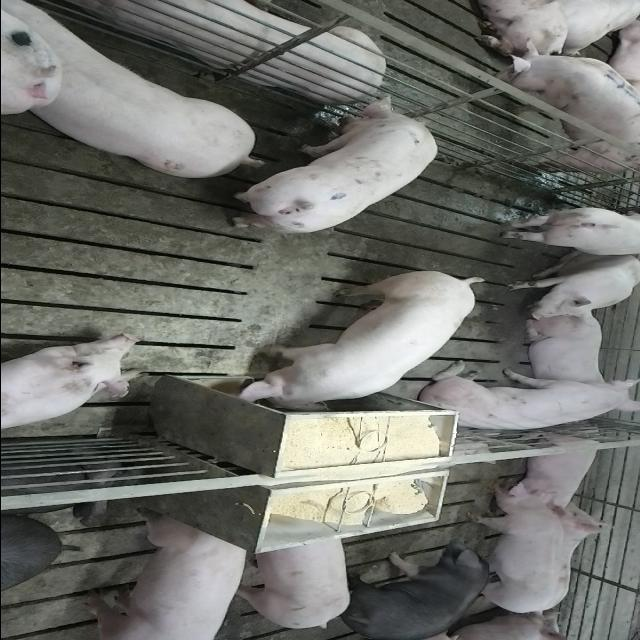Feeding: (231, 273, 483, 419)
Sitting: (412, 366, 636, 436), (502, 253, 640, 320)
Standing: (7, 5, 267, 183), (218, 93, 436, 234), (75, 514, 252, 639), (502, 42, 638, 172), (338, 536, 500, 638), (459, 482, 562, 618), (230, 532, 352, 632), (492, 206, 638, 258)
Sternal_lying: (47, 0, 383, 100), (0, 335, 142, 435), (506, 427, 608, 510), (517, 312, 607, 390)
